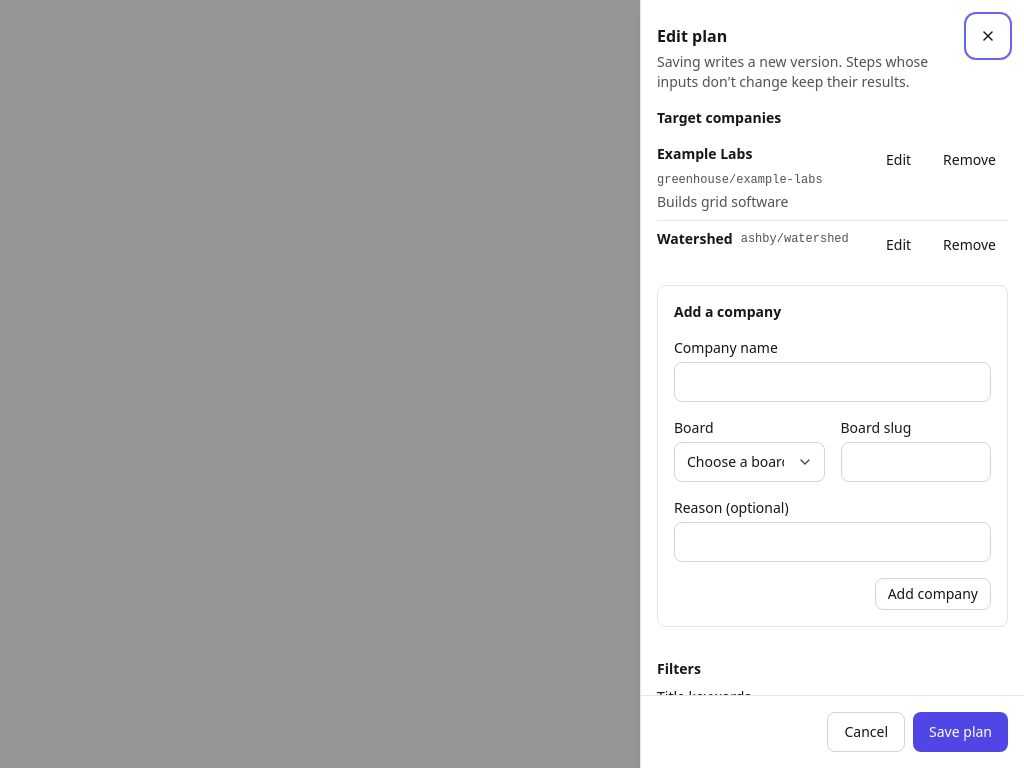
it: PlanEditor › maps a 422 onto the fields
Click the button "Save plan". click: click(961, 732)
box: [913, 712, 1008, 752]
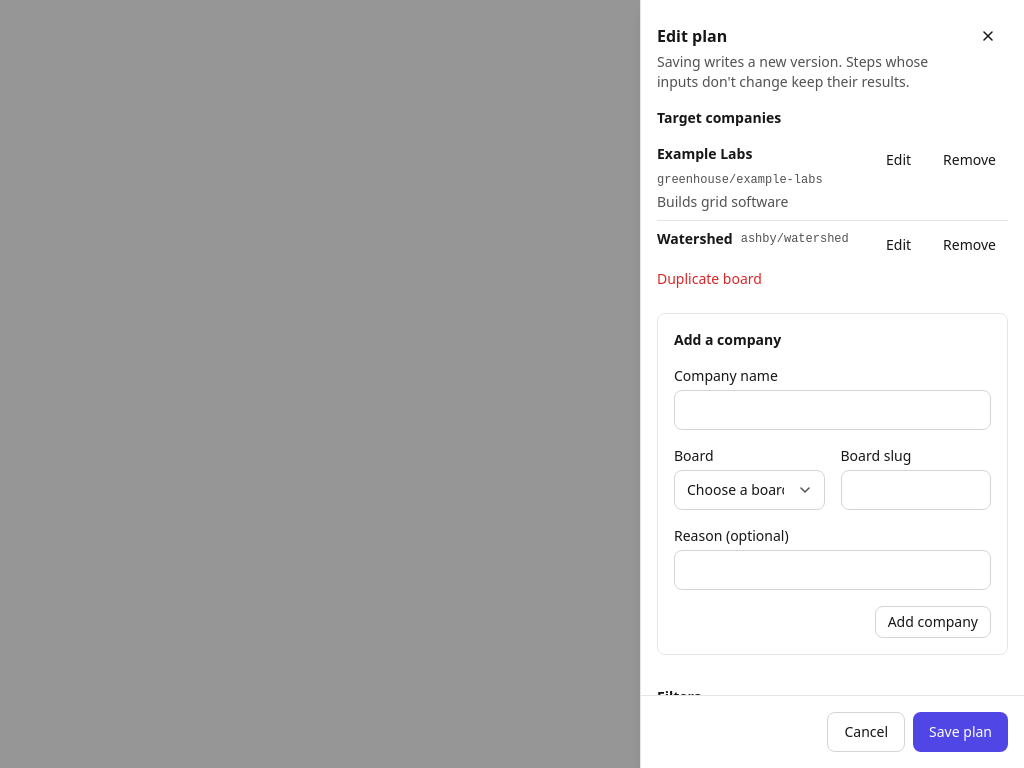
Expected: the text "Duplicate board" is shown, [657, 269, 762, 288]
